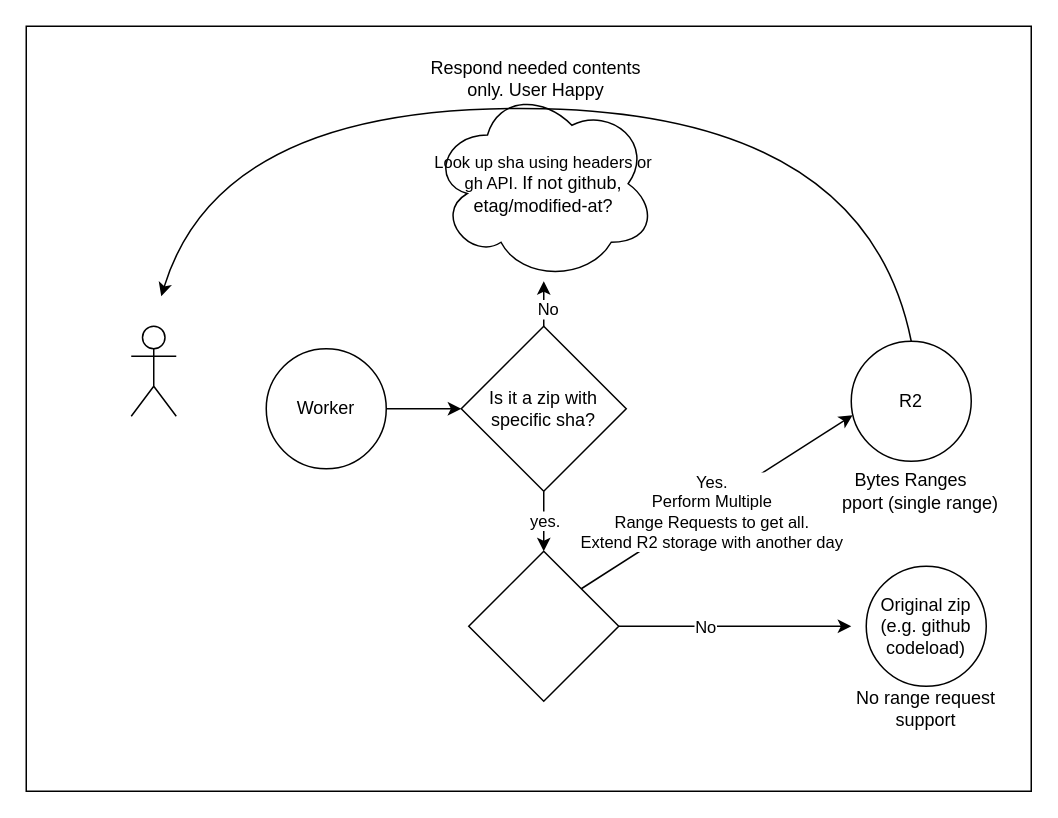
The diagram is 1058 pixels wide and 818 high, and some of its shapes have lost their labels. The centre of each missing label's shape, as x and y in pixels:
"is R2 available?" belongs at (x=543, y=625).
"requires specific files from zip with URL" belongs at (x=153, y=370).
